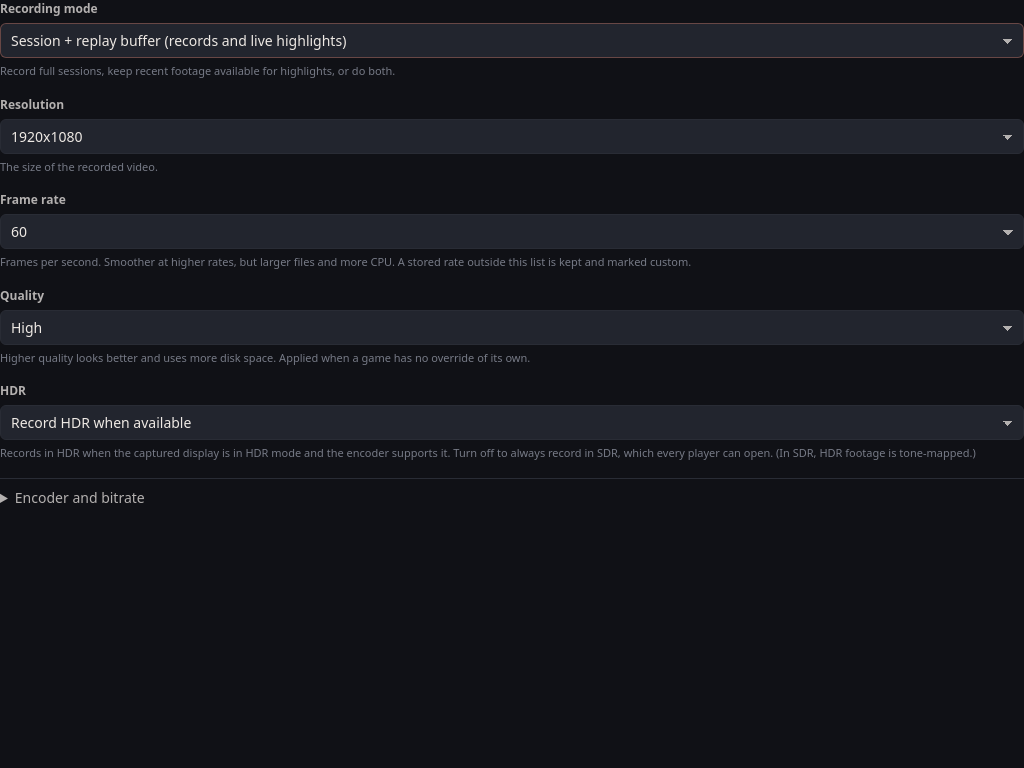
Test: recording mode change › sends nothing when the buffer-off confirmation is cancelled
Step 1. Select "Session (one continuous recording)" in the dropdown labelled "Recording mode" → (512, 40), box [0,23,1023,58]
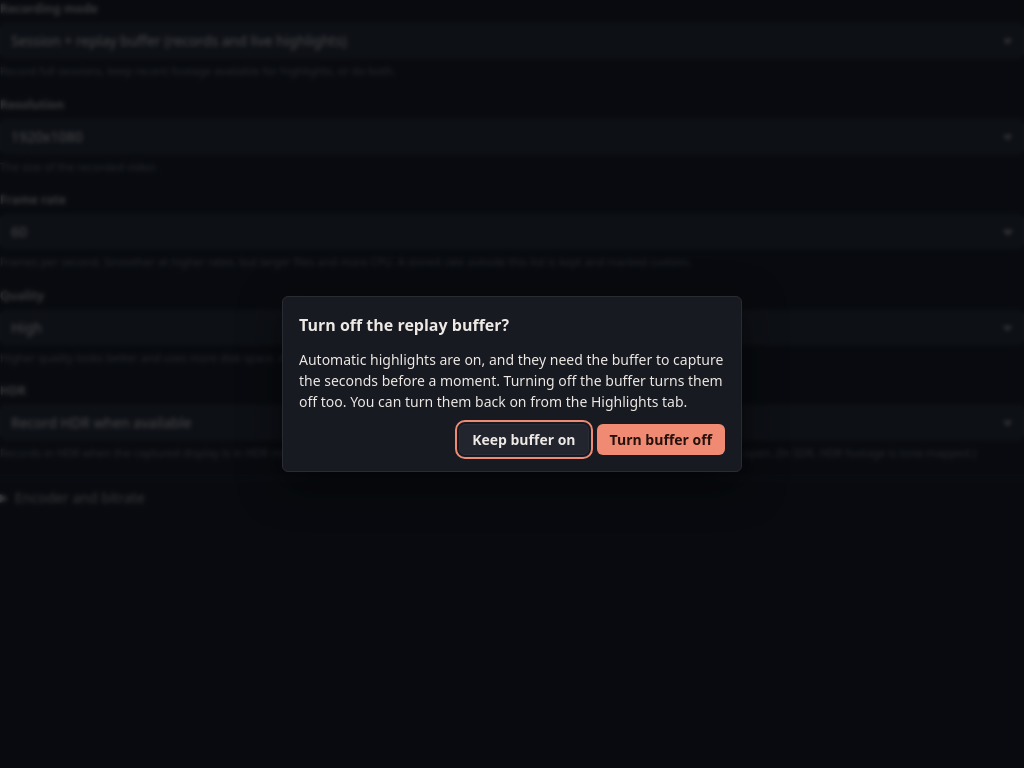
Result: the dialog is shown
Step 2. Click the button "Keep buffer on" → (524, 440), box [459,424,588,455]
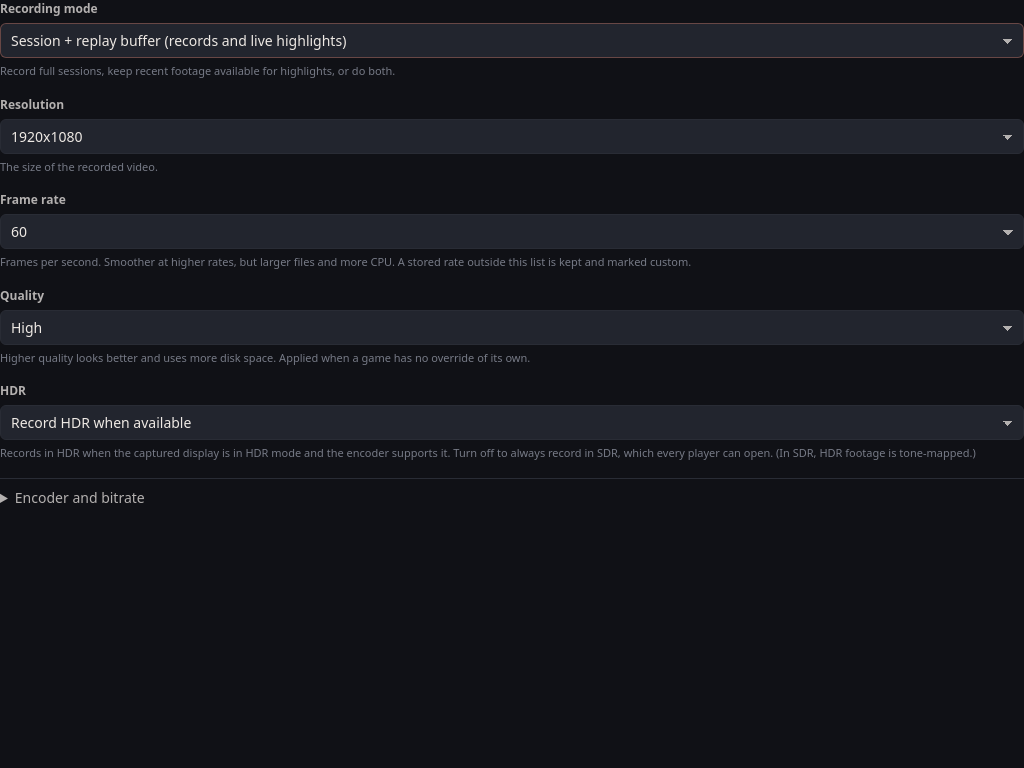
Result: the dialog is gone
